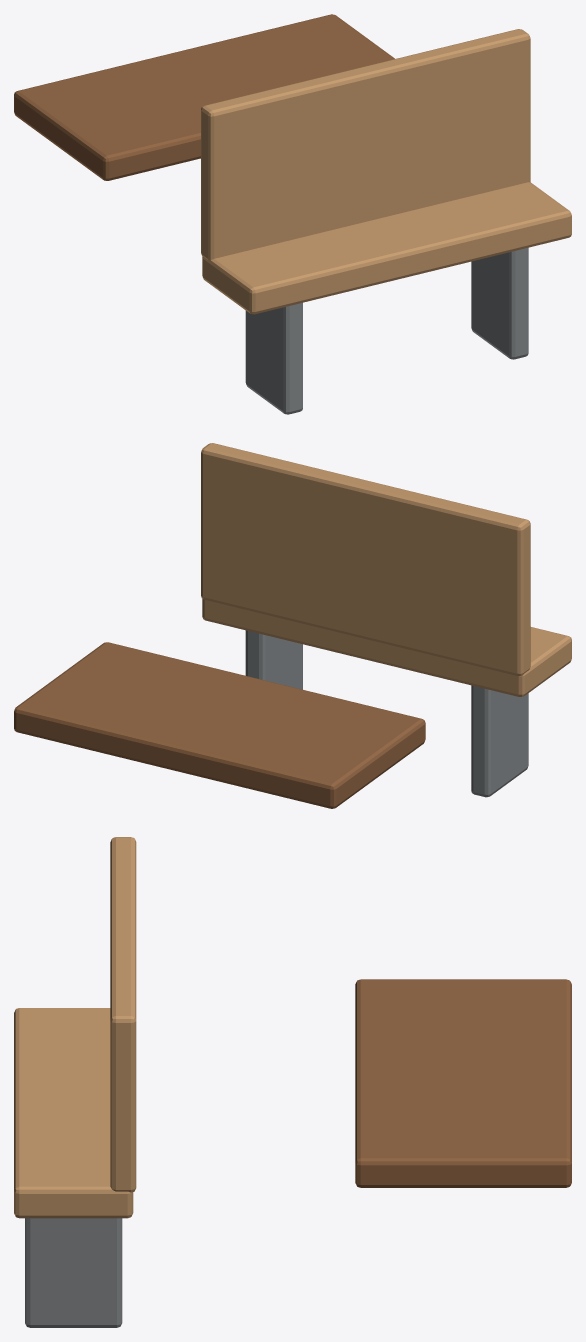
Rendered from Prop_Street_031.glb.
3 views of the same model, one above another, from view 1: azimuth 30°, elevation 25°; view 2: azimuth 150°, elevation 25°; view 3: azimuth 270°, elevation 25° (orthographic). The views are drawn at different scales.
Parts seen in each view (by area): view 1: Prop_Street_031; view 2: Prop_Street_031; view 3: Prop_Street_031.
Part boxes in pixels (box(x1,y1,x2,y2)): Prop_Street_031: box(14, 14, 571, 414); Prop_Street_031: box(14, 443, 571, 808); Prop_Street_031: box(14, 837, 571, 1327).
Bounding box in the file's own units: 2 × 1.7 × 2.57.
